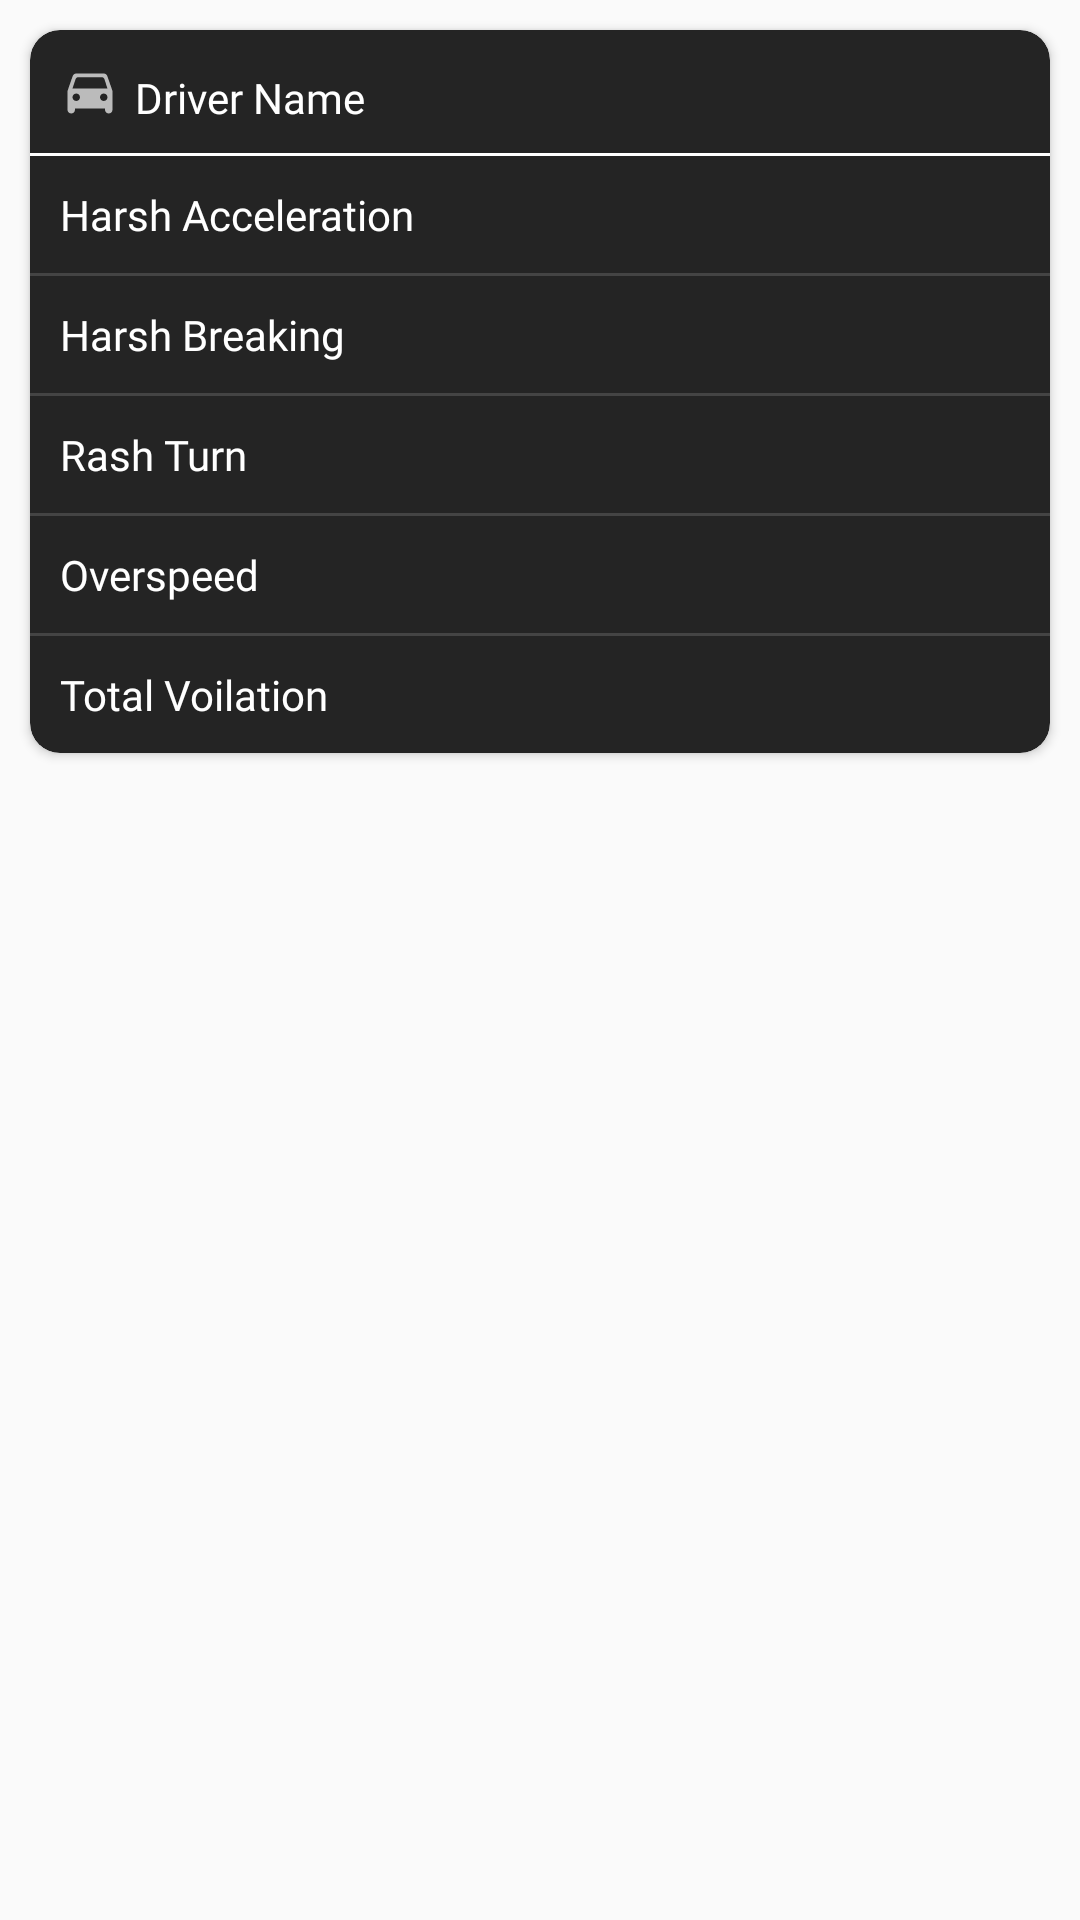

Named icons in this screenshot (1080x1920) and their centers, point (x, y):
caricon: point (90, 93)
